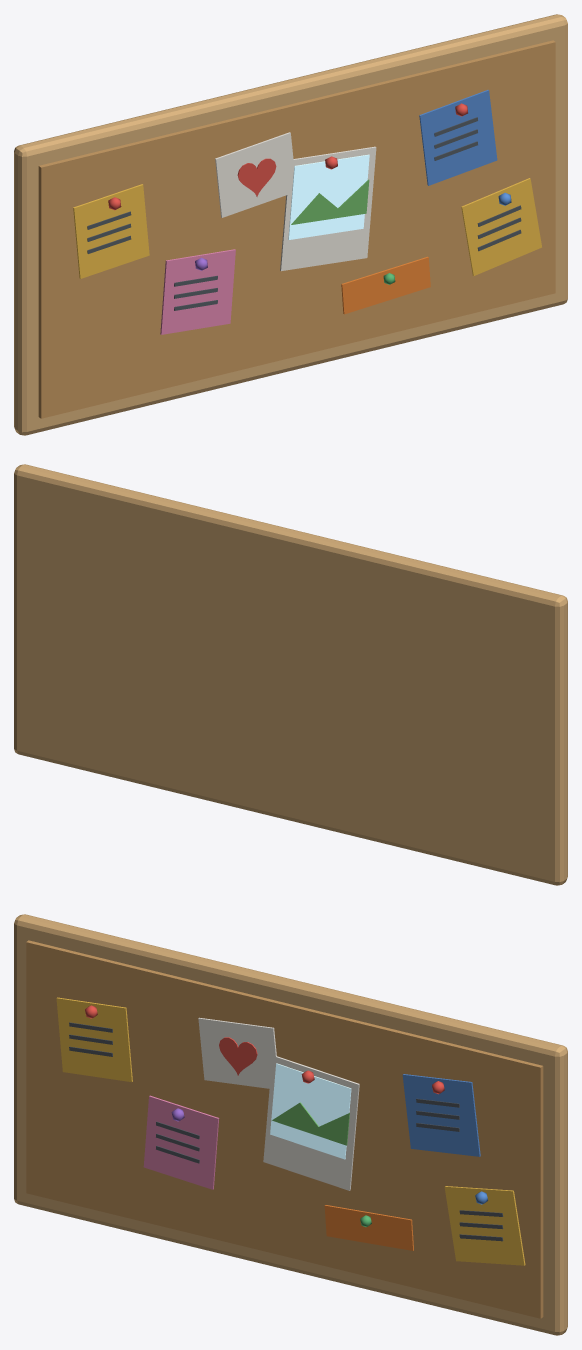
File: quadro-cortica.glb
The picture shows the model from 3 angles, top to bottom: view 1: azimuth 30°, elevation 25°; view 2: azimuth 150°, elevation 25°; view 3: azimuth 330°, elevation 25°; orthographic projection.
Visible parts, largest first — view 1: quadro-cortica; view 2: quadro-cortica; view 3: quadro-cortica.
Boxes of the visible parts, left/top/right/bottom form: quadro-cortica: left=14, top=14, right=567, bottom=435; quadro-cortica: left=14, top=464, right=567, bottom=885; quadro-cortica: left=14, top=914, right=567, bottom=1335.
Bounding box in the file's own units: 1.9 × 0.95 × 0.1187.
